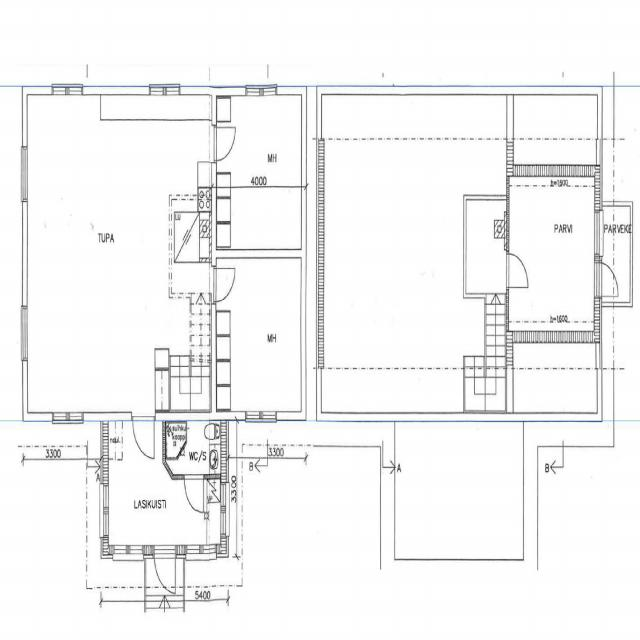door: (154, 545, 175, 595), (132, 412, 154, 457), (594, 263, 620, 297), (211, 268, 235, 302), (211, 127, 235, 161), (506, 254, 528, 287), (184, 474, 203, 512)
